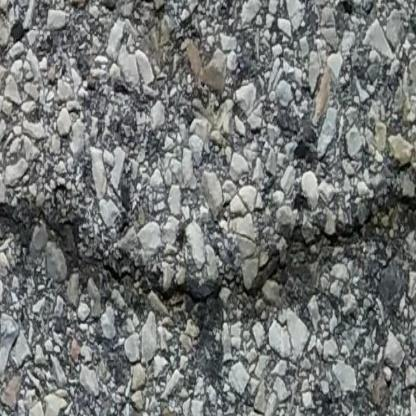Cracks: (0, 158, 416, 374), (132, 0, 176, 42)
